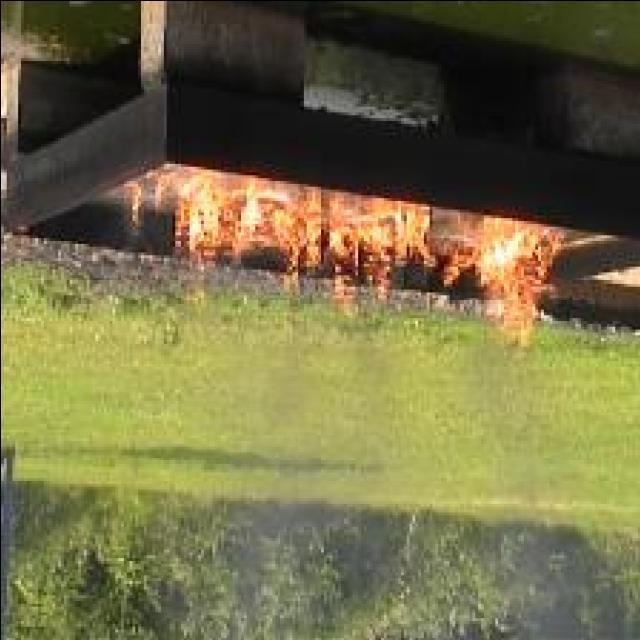Fire: (130, 168, 433, 316), (440, 217, 557, 352)
